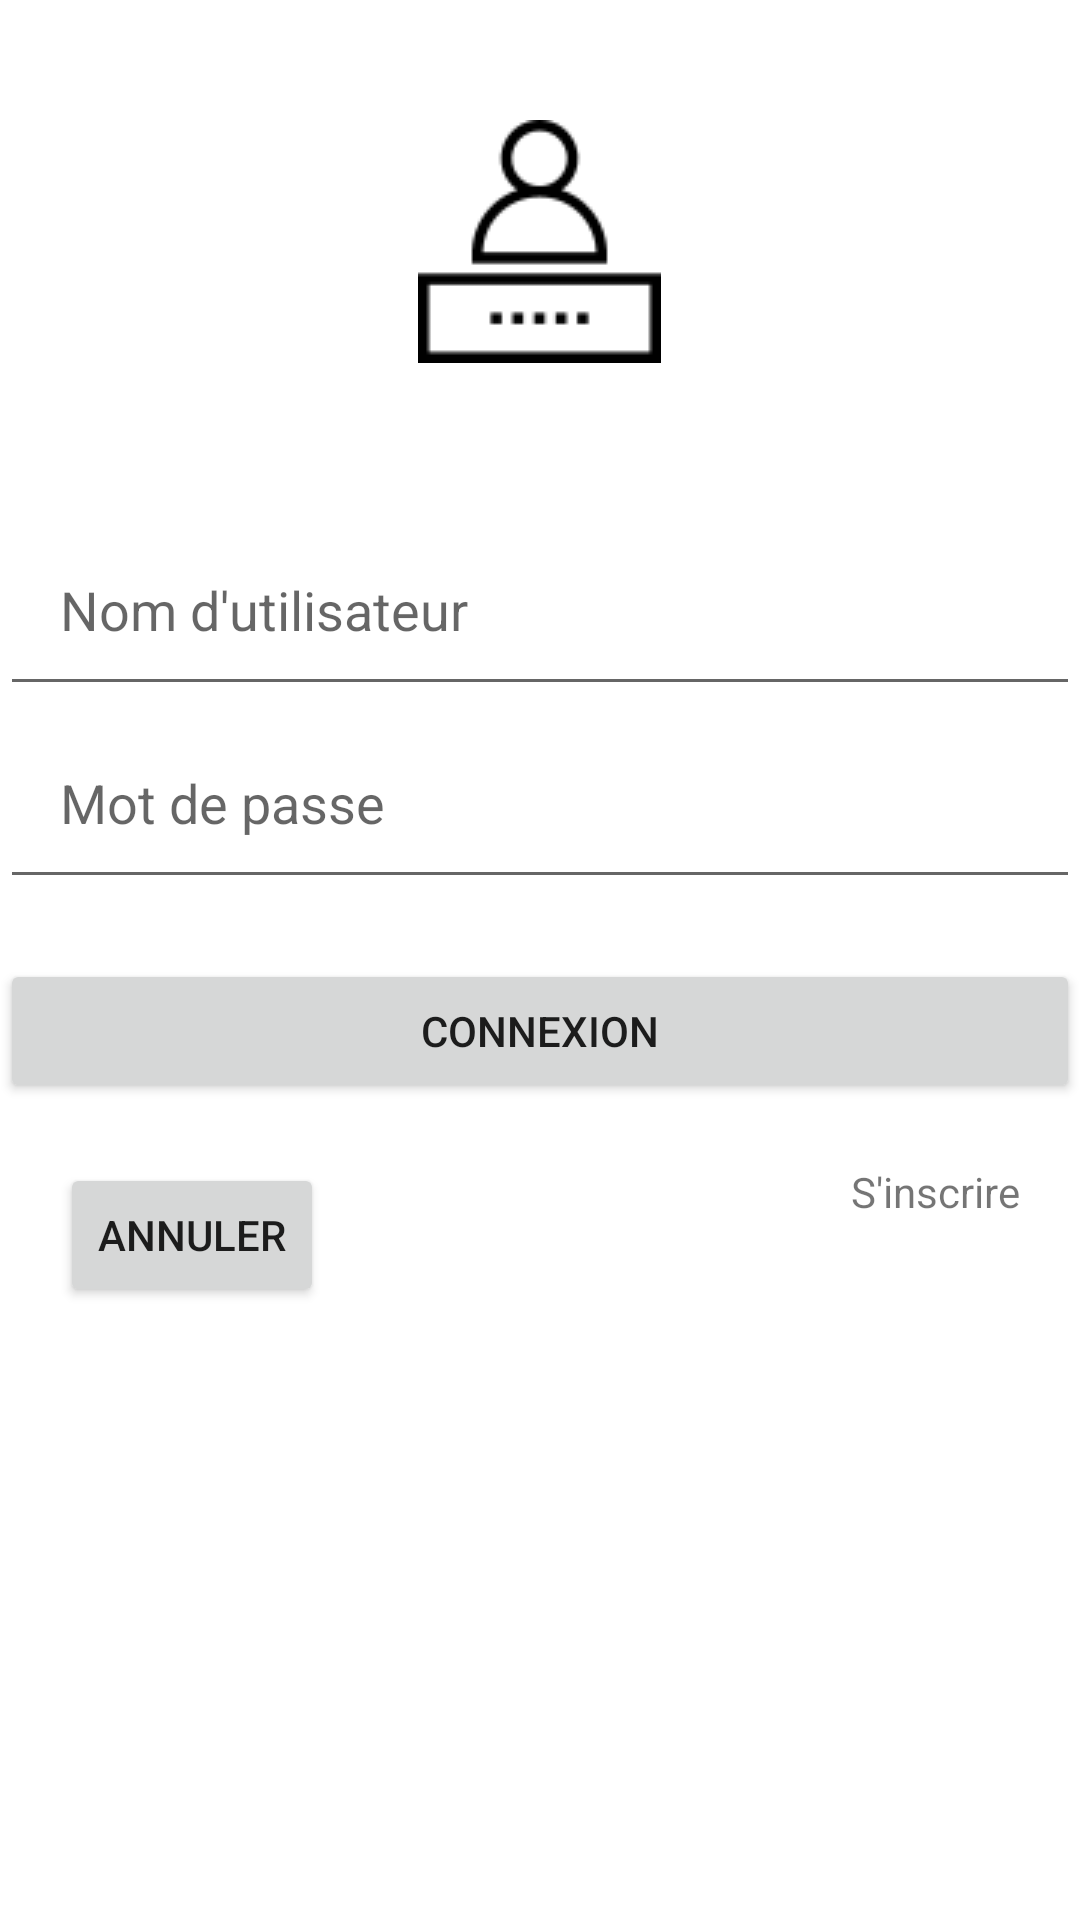

Screen size 1080px x 1920px. Icon name, then its box in pixels as (x1,y1,x2,y2):
login: (418,120,661,363)
